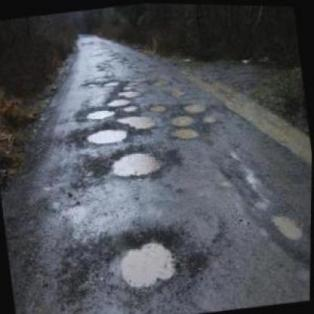Hueco: (109, 224, 186, 292), (106, 144, 167, 181), (84, 121, 132, 148), (270, 208, 306, 241), (117, 109, 159, 133), (86, 104, 119, 121), (167, 124, 200, 141), (171, 113, 197, 128), (181, 100, 207, 113), (117, 86, 144, 98), (108, 94, 132, 106), (150, 101, 168, 111), (103, 78, 120, 87)
